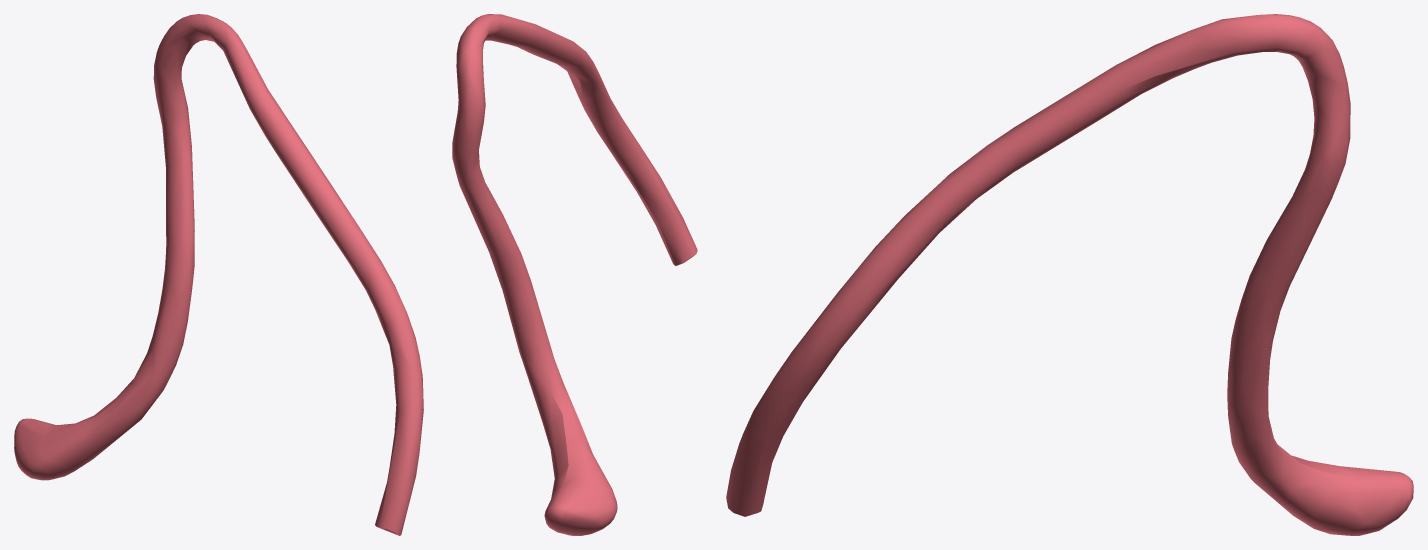
File: fma14768_fj3499.glb
The picture shows the model from 3 angles, left to right: view 1: azimuth 30°, elevation 25°; view 2: azimuth 150°, elevation 25°; view 3: azimuth 270°, elevation 25°; orthographic projection. The views are drawn at different scales.
Parts seen in each view (by area): view 1: FMA14768_FJ3499; view 2: FMA14768_FJ3499; view 3: FMA14768_FJ3499.
Boxes of the visible parts, <box> form: FMA14768_FJ3499: <box>14,14,423,535</box>; FMA14768_FJ3499: <box>452,14,697,535</box>; FMA14768_FJ3499: <box>726,14,1413,535</box>.
Bounding box in the file's own units: 0.0218 × 0.0454 × 0.0467.
